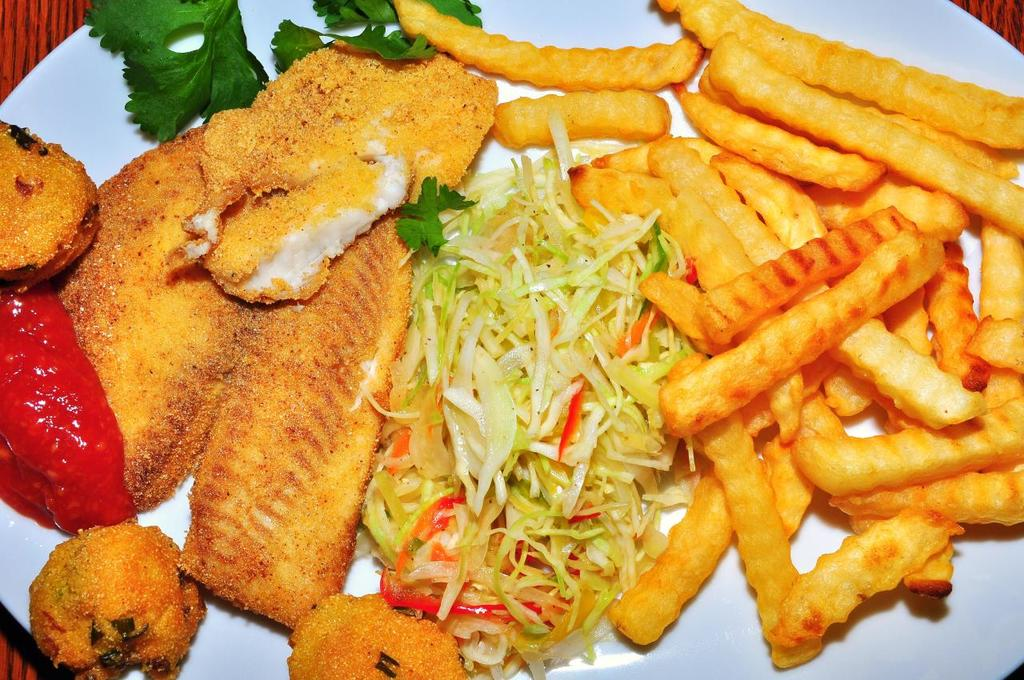French fries: (363, 0, 1023, 679)
